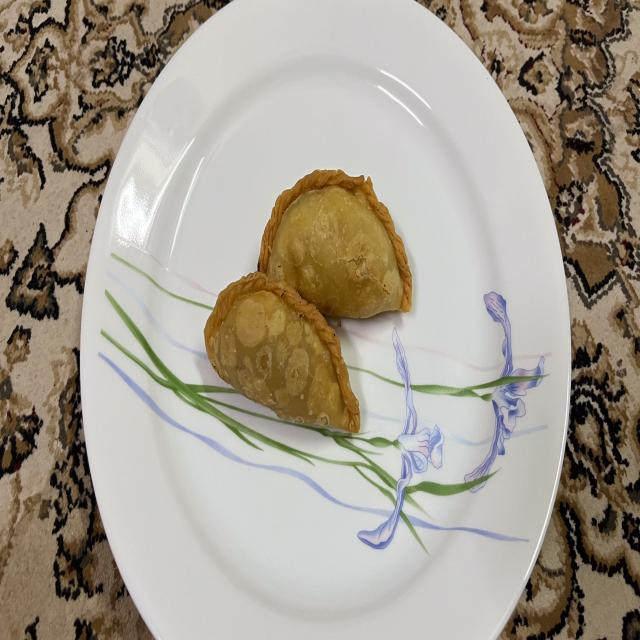karipap: (204, 271, 360, 433), (258, 169, 412, 318)
